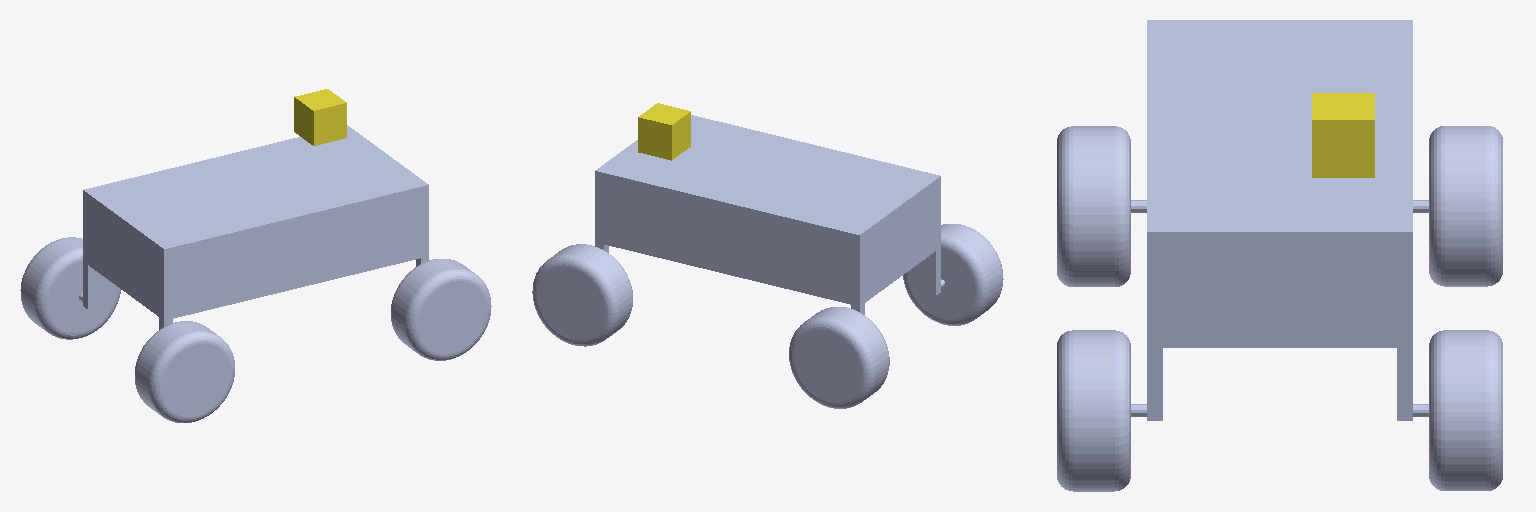
URDF robot description (rover_autonav):
<?xml version="1.0" encoding="utf-8"?>
<!-- This URDF was automatically created by SolidWorks to URDF Exporter! Originally created by [author] ([email redacted]) 
     Commit Version: 1.6.0-1-g15f4949  Build Version: 1.6.7594.29634
     For more information, please see http://wiki.ros.org/sw_urdf_exporter -->
<robot
  name="rover_autonav">
  <link
    name="base_link">
    <inertial>
      <origin
        xyz="-2.2204E-16 3.8858E-16 -0.10299"
        rpy="0 0 0" />
      <mass
        value="67.568" />
      <inertia
        ixx="1.2576"
        ixy="-8.9345E-15"
        ixz="1.1652E-14"
        iyy="3.7875"
        iyz="-2.6748E-15"
        izz="4.548" />
    </inertial>
    <visual>
      <origin
        xyz="0 0 0"
        rpy="0 0 0" />
      <geometry>
        <mesh
          filename="package://rover_autonav/meshes/base_link.STL" />
      </geometry>
      <material
        name="">
        <color
          rgba="0.79216 0.81961 0.93333 1" />
      </material>
    </visual>
    <collision>
      <origin
        xyz="0 0 0"
        rpy="0 0 0" />
      <geometry>
        <mesh
          filename="package://rover_autonav/meshes/base_link.STL" />
      </geometry>
    </collision>
  </link>

<!-- Create a dummy link as base link -->
  <link name="dummy">
    <pose>0 0 0 0 0 0</pose>
  </link> 
  <joint name="dummy_to_base_link" type="fixed">
    <parent link="dummy"/>
    <child link="base_link"/>
  </joint>

  <joint name="hokuyo_joint" type="fixed">
      <axis xyz="0 1 0" />
      <origin xyz="0.35 0 0.02" rpy="0 0 0"/>
      <parent link="base_link"/>
      <child link="hokuyo_link"/>
  </joint>

  <!-- Hokuyo Laser -->
  <link name="hokuyo_link">
    <collision>
      <origin xyz="0 0 0.05" rpy="0 0 0"/>
      <geometry>
    <box size="0.1 0.1 0.1"/>
      </geometry>
    </collision>

    <visual>
      <origin xyz="0 0 0" rpy="0 0 0"/>
      <geometry>
        <mesh filename="package://rover_control/meshes/hokuyo.dae"/>
      </geometry>
    </visual>

    <inertial>
      <mass value="1e-5" />
      <origin xyz="0 0 0" rpy="0 0 0"/>
      <inertia ixx="1e-6" ixy="0" ixz="0" iyy="1e-6" iyz="0" izz="1e-6" />
    </inertial>
  </link>
  <gazebo reference="hokuyo_link">
    <material>Gazebo/Grey</material>
  </gazebo>

  <joint name="camera_joint" type="fixed">
    <axis xyz="0 1 0" />
    <origin xyz="0.25 0.1 0.1" rpy="0 0 0"/>
    <parent link="base_link"/>
    <child link="camera_link"/>
  </joint>

  <!-- Camera -->
  <link name="camera_link">
    <collision>
      <origin xyz="0 0 0" rpy="0 0 0"/>
      <geometry>
    <box size="0.05 0.05 0.05"/>
      </geometry>
    </collision>

    <visual>
      <origin xyz="0 0 0" rpy="0 0 0"/>
      <geometry>
    <box size="0.1 0.1 0.1"/>
      </geometry>
      <material name="red"/>
    </visual>

    <inertial>
      <mass value="1e-5" />
      <origin xyz="0 0 0" rpy="0 0 0"/>
      <inertia ixx="1e-6" ixy="0" ixz="0" iyy="1e-6" iyz="0" izz="1e-6" />
    </inertial>
  </link>
  <gazebo reference="camera_link">
    <material>Gazebo/Blue</material>
  </gazebo>
  <link
    name="lbacklink">
    <inertial>
      <origin
        xyz="-7.27733231620231E-07 0.05842 1.62491302746481E-06"
        rpy="0 0 0" />
         <mass
        value="5.6739801254924" />
      <inertia
        ixx="0.0284379209888981"
        ixy="-5.75264381966658E-17"
        ixz="-3.92244964079017E-09"
        iyy="0.0446580879636162"
        iyz="5.59109627307512E-17"
        izz="0.0284379279903993" />
    </inertial>
    <visual>
      <origin
        xyz="0 0 0"
        rpy="0 0 0" />
      <geometry>
        <mesh
          filename="package://rover_autonav/meshes/lbacklink.STL" />
      </geometry>
      <material
        name="">
        <color
          rgba="0.792156862745098 0.819607843137255 0.933333333333333 1" />
      </material>
    </visual>
    <collision>
      <origin
        xyz="0 0 0"
        rpy="0 0 0" />
      <geometry>
        <mesh
          filename="package://rover_autonav/meshes/lbacklink.STL" />
      </geometry>
    </collision>
  </link>
  <gazebo reference="lbacklink">
    <kp>1000000.0</kp> <!-- kp and kd for rubber -->
    <kd>100.0</kd>
    <mu1>1.0</mu1>
    <mu2>1.0</mu2>
    <material>Gazebo/Black</material>
  </gazebo>
  <joint
    name="backleft"
    type="continuous">
    <origin
      xyz="-0.38078 -0.35179 -0.31801"
      rpy="0 0 0" />
    <parent
      link="base_link" />
    <child
      link="lbacklink" />
    <axis
      xyz="0 1 0" />
    <limit
      effort="1000000"
      velocity="1000000" />
  </joint>
  <link
    name="rbacklink">
    <inertial>
      <origin
        xyz="5.02792962708831E-07 -0.05842 -1.70796289178377E-06"
        rpy="0 0 0" />
      <mass
        value="5.6739801254924" />
      <inertia
        ixx="0.0284379200707492"
        ixy="-5.63682702496539E-17"
        ixz="-2.84854228166472E-09"
        iyy="0.0446580879636162"
        iyz="5.62895689764963E-17"
        izz="0.0284379289085482" />
    </inertial>
    <visual>
      <origin
        xyz="0 0 0"
        rpy="0 0 0" />
      <geometry>
        <mesh
          filename="package://rover_autonav/meshes/rbacklink.STL" />
      </geometry>
      <material
        name="">
        <color
          rgba="0.792156862745098 0.819607843137255 0.933333333333333 1" />
      </material>
    </visual>
    <collision>
      <origin
        xyz="0 0 0"
        rpy="0 0 0" />
      <geometry>
        <mesh
          filename="package://rover_autonav/meshes/rbacklink.STL" />
      </geometry>
    </collision>
  </link>
  <gazebo reference="rbacklink">
    <kp>1000000.0</kp> <!-- kp and kd for rubber -->
    <kd>100.0</kd>
    <mu1>1.0</mu1>
    <mu2>1.0</mu2>
    <material>Gazebo/Black</material>
  </gazebo>
  <joint
    name="backright"
    type="continuous">
    <origin
      xyz="-0.38115 0.35179 -0.31701"
      rpy="0 0 0" />
    <parent
      link="base_link" />
    <child
      link="rbacklink" />
    <axis
      xyz="0 1 0" />
    <limit
      effort="1000000"
      velocity="1000000" />
  </joint>
  <link
    name="lfrontlink">
    <inertial>
      <origin
        xyz="7.29369893370801E-08 0.05842 1.77893737907109E-06"
        rpy="0 0 0" />
    <mass
        value="5.6739801254924" />
      <inertia
        ixx="0.0284379192498368"
        ixy="-5.69933931600498E-17"
        ixz="4.30391359396819E-10"
        iyy="0.0446580879636162"
        iyz="5.89209747200998E-17"
        izz="0.0284379297294607" />
    </inertial>
    <visual>
      <origin
        xyz="0 0 0"
        rpy="0 0 0" />
      <geometry>
        <mesh
          filename="package://rover_autonav/meshes/lfrontlink.STL" />
      </geometry>
      <material
        name="">
        <color
          rgba="0.792156862745098 0.819607843137255 0.933333333333333 1" />
      </material>
    </visual>
    <collision>
      <origin
        xyz="0 0 0"
        rpy="0 0 0" />
      <geometry>
        <mesh
          filename="package://rover_autonav/meshes/lfrontlink.STL" />
      </geometry>
    </collision>
  </link>
  <gazebo reference="lfrontlink">
    <kp>1000000.0</kp> <!-- kp and kd for rubber -->
    <kd>100.0</kd>
    <mu1>1.0</mu1>
    <mu2>1.0</mu2>
    <material>Gazebo/Grey</material>
  </gazebo>
  <joint
    name="frontleft"
    type="continuous">
    <origin
      xyz="0.38098 -0.35179 -0.31805"
      rpy="0 0 0" />
    <parent
      link="base_link" />
    <child
      link="lfrontlink" />
    <axis
      xyz="0 1 0" />
    <limit
      effort="1000000"
      velocity="1000000" />
  </joint>
  <link
    name="rfrontlink">
    <inertial>
      <origin
        xyz="-1.66413693092338E-06 -0.0584199999999999 -6.32918855159037E-07"
        rpy="0 0 0" />
    <mass
        value="5.6739801254924" />
      <inertia
        ixx="0.0284379192498368"
        ixy="-5.69933931600498E-17"
        ixz="4.30391359396819E-10"
        iyy="0.0446580879636162"
        iyz="5.89209747200998E-17"
        izz="0.0284379297294607" />
    </inertial>
    <visual>
      <origin
        xyz="0 0 0"
        rpy="0 0 0" />
      <geometry>
        <mesh
          filename="package://rover_autonav/meshes/rfrontlink.STL" />
      </geometry>
      <material
        name="">
        <color
          rgba="0.792156862745098 0.819607843137255 0.933333333333333 1" />
      </material>
    </visual>
    <collision>
      <origin
        xyz="0 0 0"
        rpy="0 0 0" />
      <geometry>
        <mesh
          filename="package://rover_autonav/meshes/rfrontlink.STL" />
      </geometry>
    </collision>
  </link>
  <gazebo reference="rfrontlink">
    <kp>1000000.0</kp> <!-- kp and kd for rubber -->
    <kd>100.0</kd>
    <mu1>1.0</mu1>
    <mu2>1.0</mu2>
    <material>Gazebo/Grey</material>
  </gazebo>
  <joint
    name="frontright"
    type="continuous">
    <origin
      xyz="0.3815 0.35179 -0.31733"
      rpy="0 0 0" />
    <parent
      link="base_link" />
    <child
      link="rfrontlink" />
    <axis
      xyz="0 1 0" />
    <limit
      effort="1000000"
      velocity="1000000" />
  </joint>
  <gazebo reference="camera_link">
    <sensor name="kinect_camera" type="depth">
      <update_rate>20</update_rate>
      <camera>
        <horizontal_fov>1.047198</horizontal_fov>
        <image>
          <width>640</width>
          <height>480</height>
          <format>R8G8B8</format>
        </image>
        <clip>
          <near>0.05</near>
          <far>3</far>
        </clip>
      </camera>
      <plugin name="camera_link_controller" filename="libgazebo_ros_openni_kinect.so">
        <baseline>0.2</baseline>
        <alwaysOn>true</alwaysOn>
        <updateRate>1.0</updateRate>
        <cameraName>camera_link_ir</cameraName>
        <imageTopicName>/camera_link/color/image_raw</imageTopicName>
        <cameraInfoTopicName>/camera_link/color/camera_info</cameraInfoTopicName>
        <depthImageTopicName>/camera_link/depth/image_raw</depthImageTopicName>
        <depthImageInfoTopicName>/camera_link/depth/camera_info</depthImageInfoTopicName>
        <pointCloudTopicName>/camera_link/depth/points</pointCloudTopicName>
        <frameName>camera_link</frameName>
        <pointCloudCutoff>0.5</pointCloudCutoff>
        <pointCloudCutoffMax>3.0</pointCloudCutoffMax>
        <distortionK1>0.00000001</distortionK1>
        <distortionK2>0.00000001</distortionK2>
        <distortionK3>0.00000001</distortionK3>
        <distortionT1>0.00000001</distortionT1>
        <distortionT2>0.00000001</distortionT2>
        <CxPrime>0</CxPrime>
        <Cx>0</Cx>
        <Cy>0</Cy>
        <focalLength>0</focalLength>
        <hackBaseline>0</hackBaseline>
      </plugin>
    </sensor>
  </gazebo>

 <!-- hokuyo -->
  <gazebo reference="hokuyo_link">
    <sensor type="ray" name="head_hokuyo_sensor">
      <pose>0 0 0 0 0 0</pose>
      <visualize>true</visualize>
      <update_rate>100</update_rate>
      <ray>
        <scan>
          <horizontal>
            <samples>360</samples>
            <resolution>1</resolution>
            <min_angle>-1.57</min_angle>
            <max_angle>1.57</max_angle>
          </horizontal>
        </scan>
        <range>
          <min>0.10</min>
          <max>20</max>
          <resolution>0.01</resolution>
        </range>
        <noise>
          <type>gaussian</type>
          <!-- Noise parameters based on published spec for Hokuyo laser
               achieving "+-30mm" accuracy at range < 10m.  A mean of 0.0m and
               stddev of 0.01m will put 99.7% of samples within 0.03m of the true
               reading. -->
          <mean>0.0</mean>
          <stddev>0.01</stddev>
        </noise>
      </ray>
      <plugin name="gazebo_ros_head_hokuyo_controller" filename="libgazebo_ros_laser.so">
        <topicName>/scan</topicName>
        <frameName>hokuyo_link</frameName>
      </plugin>
    </sensor>
  </gazebo>
	<gazebo>
	  <plugin name="skid_steer_drive_controller" filename="libgazebo_ros_skid_steer_drive.so">
	    <updateRate>100.0</updateRate>
	    <leftFrontJoint>frontleft</leftFrontJoint>
	    <rightFrontJoint>frontright</rightFrontJoint>
	    <leftRearJoint>backleft</leftRearJoint>
	    <rightRearJoint>backright</rightRearJoint>
	    <wheelSeparation>0.20955</wheelSeparation>
	    <wheelDiameter>0.254</wheelDiameter>
	    <robotBaseFrame>base_link</robotBaseFrame>
	    <torque>500</torque> <!--can start rotating base at torque > & == 50-->
	    <topicName>cmd_vel</topicName>
	    <commandTopic>cmd_vel</commandTopic>
	    <odometryTopic>odom</odometryTopic>
	    <odometryFrame>odom</odometryFrame>
	    <publishOdom>true</publishOdom>
	    <broadcastTF>true</broadcastTF>
	    <covariance_x>0.0001</covariance_x>
	    <covariance_y>0.0001</covariance_y>
	    <covariance_yaw>0.01</covariance_yaw>
	  </plugin>
	</gazebo>

<!-- IMU Plugin -->
  <gazebo>
    <plugin name="imu_plugin" filename="libgazebo_ros_imu.so">
      <alwaysOn>true</alwaysOn>
      <bodyName>base_link</bodyName>
      <topicName>imu</topicName>
      <serviceName>imu_service</serviceName>
      <gaussianNoise>0.1</gaussianNoise>
      <updateRate>20.0</updateRate>
    </plugin>
  </gazebo>
  <gazebo>
    <plugin name="gazebo_ros_control" filename="libgazebo_ros_control.so">
      <robotNamespace>rover_autonav</robotNamespace>
      <robotSimType>gazebo_ros_control/DefaultRobotHWSim</robotSimType>
    </plugin>
  </gazebo>

  <!-- Rear wheels transmission -->

  <transmission name="rear_left_wheel">
      <type>transmission_interface/SimpleTransmission</type>
      <joint name="backleft">
          <hardwareInterface>hardware_interface/EffortJointInterface</hardwareInterface>
      </joint>
      <actuator name="motor_rear_left_wheel">
          <hardwareInterface>hardware_interface/EffortJointInterface</hardwareInterface>
          <mechanicalReduction>1</mechanicalReduction>
      </actuator>
  </transmission>

  <transmission name="rear_right_wheel">
      <type>transmission_interface/SimpleTransmission</type>
      <joint name="backright">
          <hardwareInterface>hardware_interface/EffortJointInterface</hardwareInterface>
      </joint>
      <actuator name="motor_rear_right_wheel">
          <hardwareInterface>hardware_interface/EffortJointInterface</hardwareInterface>
          <mechanicalReduction>1</mechanicalReduction>
      </actuator>
  </transmission>

  <!-- Front wheels transmission -->

  <transmission name="front_left_wheel">
      <type>transmission_interface/SimpleTransmission</type>
      <joint name="frontleft">
          <hardwareInterface>hardware_interface/EffortJointInterface</hardwareInterface>
      </joint>
      <actuator name="motor_front_left_wheel">
          <hardwareInterface>hardware_interface/EffortJointInterface</hardwareInterface>
          <mechanicalReduction>1</mechanicalReduction>
      </actuator>
  </transmission>

  <transmission name="front_right_wheel">
      <type>transmission_interface/SimpleTransmission</type>
      <joint name="frontright">
          <hardwareInterface>hardware_interface/EffortJointInterface</hardwareInterface>
      </joint>
      <actuator name="motor_front_right_wheel">
          <hardwareInterface>hardware_interface/EffortJointInterface</hardwareInterface>
          <mechanicalReduction>1</mechanicalReduction>
      </actuator>
  </transmission>

</robot>

--- What the picture shows (computed from the rendered views, not written in the file) ---
3 views of the same robot in one strip: view 1: azimuth 30°, elevation 25°; view 2: azimuth 150°, elevation 25°; view 3: azimuth 270°, elevation 25° (orthographic).
Robot: rover_autonav — 8 links, 7 joints (4 continuous, 3 fixed); root link dummy; default pose: all joints at 0.
Visible links, largest first — view 1: base_link, lfrontlink, lbacklink, rbacklink, camera_link; view 2: base_link, rbacklink, rfrontlink, lbacklink, camera_link; view 3: base_link, lfrontlink, lbacklink, rfrontlink, rbacklink, camera_link.
Link boxes in pixels (box(x1,y1,x2,y2)): base_link: box(79, 125, 455, 383); lfrontlink: box(391, 259, 491, 360); lbacklink: box(135, 321, 234, 422); rbacklink: box(20, 237, 120, 339); camera_link: box(294, 89, 346, 145); base_link: box(568, 115, 944, 369); rbacklink: box(789, 307, 889, 408); rfrontlink: box(532, 244, 632, 346); lbacklink: box(903, 224, 1003, 325); camera_link: box(638, 103, 690, 160); base_link: box(1131, 20, 1428, 420); lfrontlink: box(1057, 330, 1130, 491); lbacklink: box(1057, 126, 1130, 286); rfrontlink: box(1429, 330, 1502, 490); rbacklink: box(1429, 126, 1502, 286); camera_link: box(1312, 93, 1374, 177).
Size in the robot's own frame: 1.02 by 0.7036 by 0.595 metres.
5 mesh visuals loaded from 6 distinct referenced files (5 binary STL); not drawn: 1 (reference not matched to a file when rendering).
